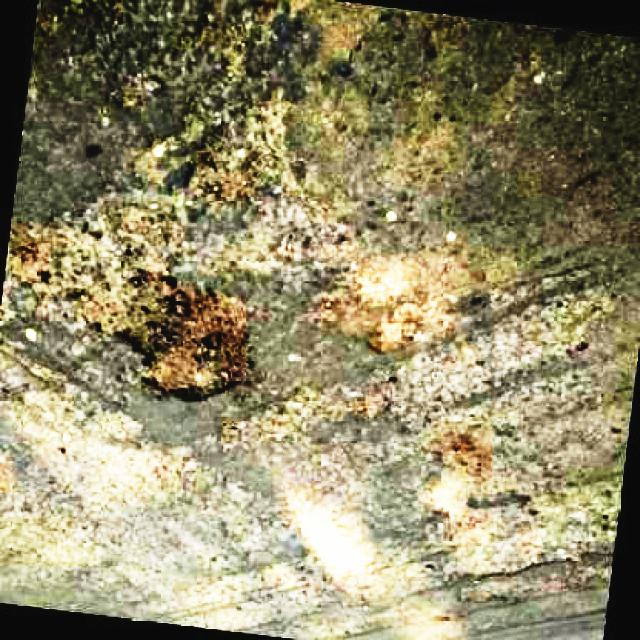pothole: (0, 210, 255, 401), (134, 117, 295, 232), (303, 266, 446, 352), (415, 411, 494, 480)
